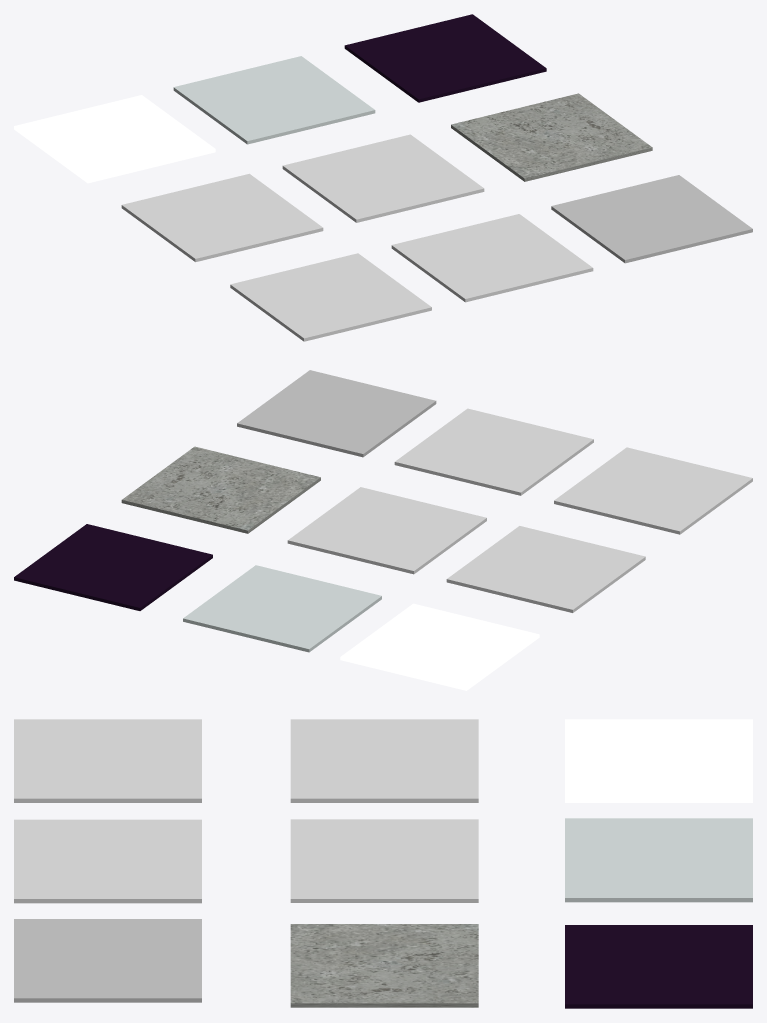
Rendered from AssetsTest.fbx.
The picture shows the model from 3 angles, top to bottom: view 1: azimuth 30°, elevation 25°; view 2: azimuth 150°, elevation 25°; view 3: azimuth 270°, elevation 25°; orthographic projection. The views are drawn at different scales.
Parts seen in each view (by area): view 1: NeonTest, GlassTest, SuperfutureTest2, FutureTest2, SuperfutureTest1, EmissiveTest, FutureTest3, FutureTest1, SuperfutureTest3; view 2: EmissiveTest, FutureTest2, FutureTest3, SuperfutureTest1, SuperfutureTest3, SuperfutureTest2, FutureTest1, GlassTest, NeonTest; view 3: FutureTest2, GlassTest, SuperfutureTest1, SuperfutureTest2, SuperfutureTest3, EmissiveTest, FutureTest1, FutureTest3, NeonTest.
Part boxes in pixels (x1,y1,x2,y2): NeonTest: (344, 14, 546, 102); GlassTest: (173, 56, 375, 144); SuperfutureTest2: (282, 134, 484, 222); FutureTest2: (391, 214, 593, 302); SuperfutureTest1: (121, 173, 323, 262); EmissiveTest: (14, 95, 215, 183); FutureTest3: (551, 175, 752, 263); FutureTest1: (230, 253, 431, 341); SuperfutureTest3: (451, 93, 652, 181); EmissiveTest: (340, 603, 539, 690); FutureTest2: (394, 408, 593, 495); FutureTest3: (237, 370, 436, 457); SuperfutureTest1: (446, 526, 645, 612); SuperfutureTest3: (121, 446, 320, 533); SuperfutureTest2: (287, 487, 486, 574); FutureTest1: (554, 447, 752, 534); GlassTest: (183, 565, 381, 652); NeonTest: (14, 524, 212, 610); FutureTest2: (14, 819, 201, 903); GlassTest: (565, 818, 752, 902); SuperfutureTest1: (290, 719, 478, 802); SuperfutureTest2: (290, 819, 478, 902); SuperfutureTest3: (290, 924, 478, 1007); EmissiveTest: (565, 719, 752, 802); FutureTest1: (14, 719, 201, 802); FutureTest3: (14, 919, 201, 1002); NeonTest: (565, 925, 752, 1008).
Size of the model in its own units: 1435 by 10 by 1571.
